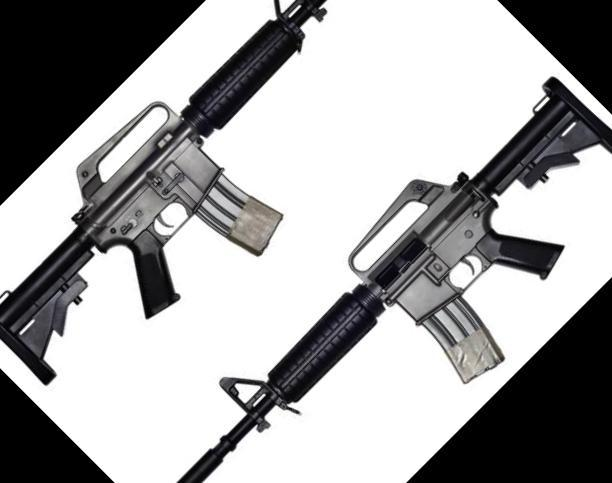larga: (176, 75, 612, 483), (0, 0, 327, 385)
